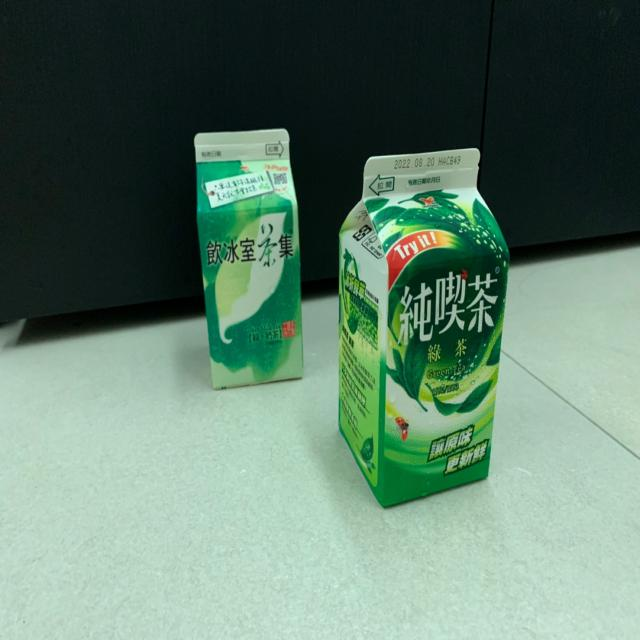non_white_jug: (335, 152, 510, 515), (182, 115, 318, 399)
